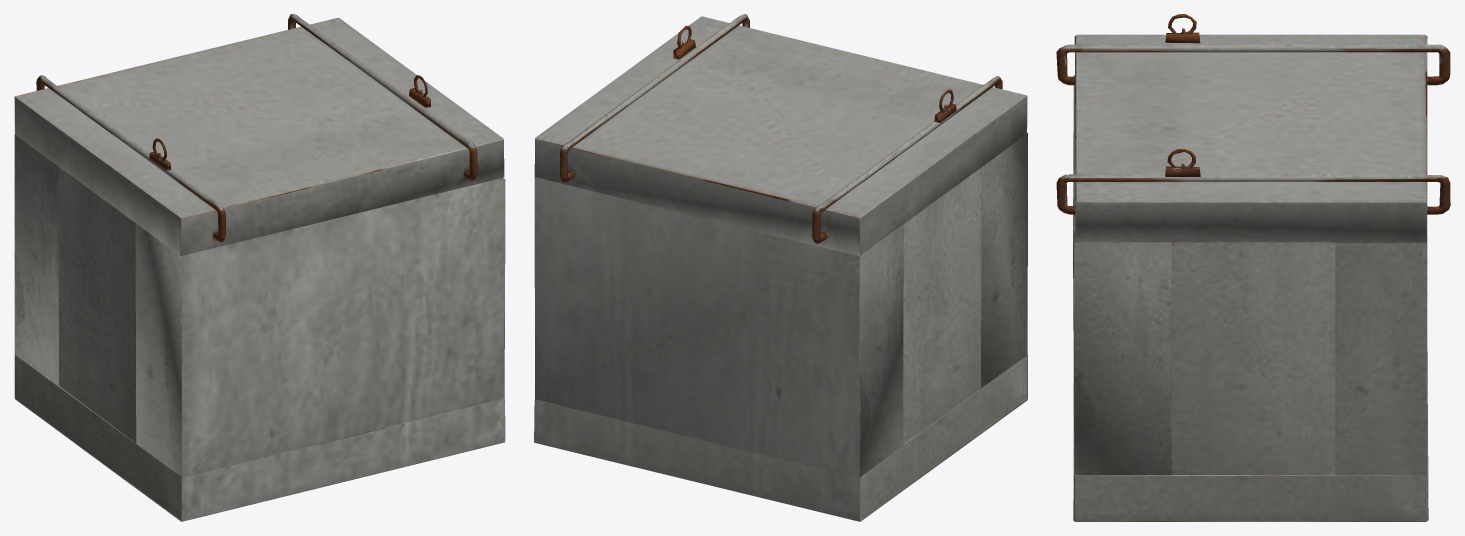
File: wall.glb
3 renders of one model, left to right at view 1: azimuth 30°, elevation 25°; view 2: azimuth 150°, elevation 25°; view 3: azimuth 270°, elevation 25°, orthographic. The views are drawn at different scales.
Bounding box in the file's own units: 1 × 1 × 1.
1 material, 1 textured.
